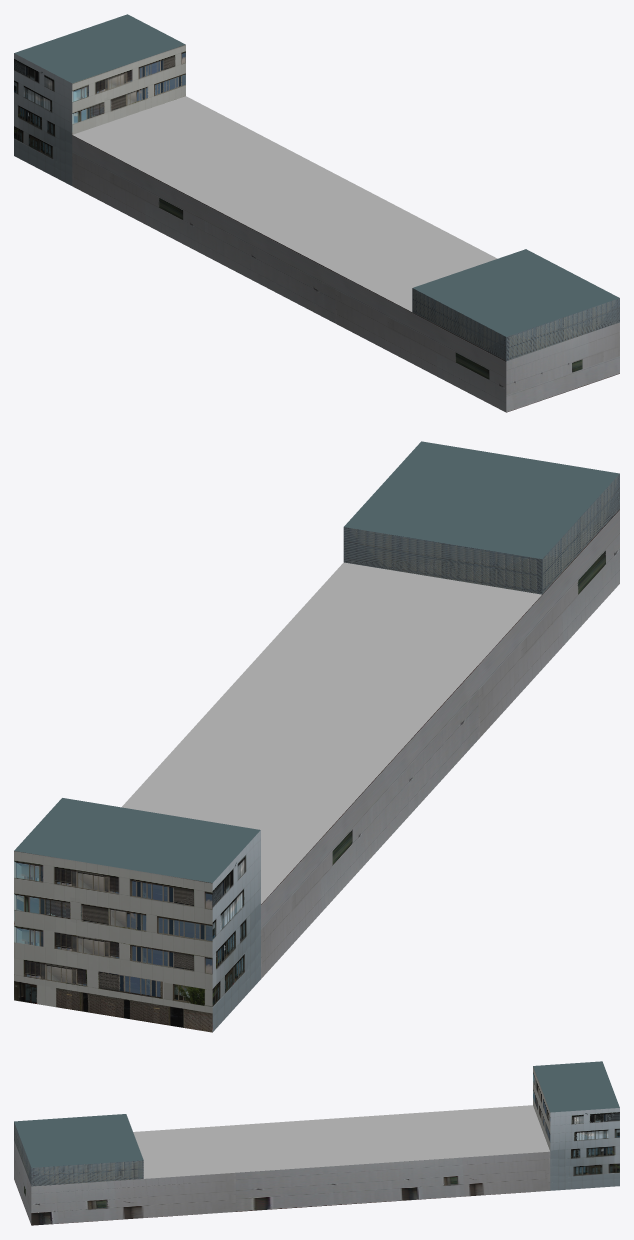
File: 1Georg-Schumann-Str7a.gltf
3 views of the same model, one above another, from view 1: azimuth 30°, elevation 25°; view 2: azimuth 150°, elevation 25°; view 3: azimuth 270°, elevation 25° (orthographic). The views are drawn at different scales.
Parts seen in each view (by area): view 1: Dach.1; view 2: Dach.1; view 3: Dach.1.
Boxes of the visible parts, x1,y1,x2,y2 form: Dach.1: (14,14,619,412); Dach.1: (14,441,619,1032); Dach.1: (14,1061,619,1225).
Bounding box in the file's own units: 44.73 × 19 × 133.
8 materials, 6 textured.
